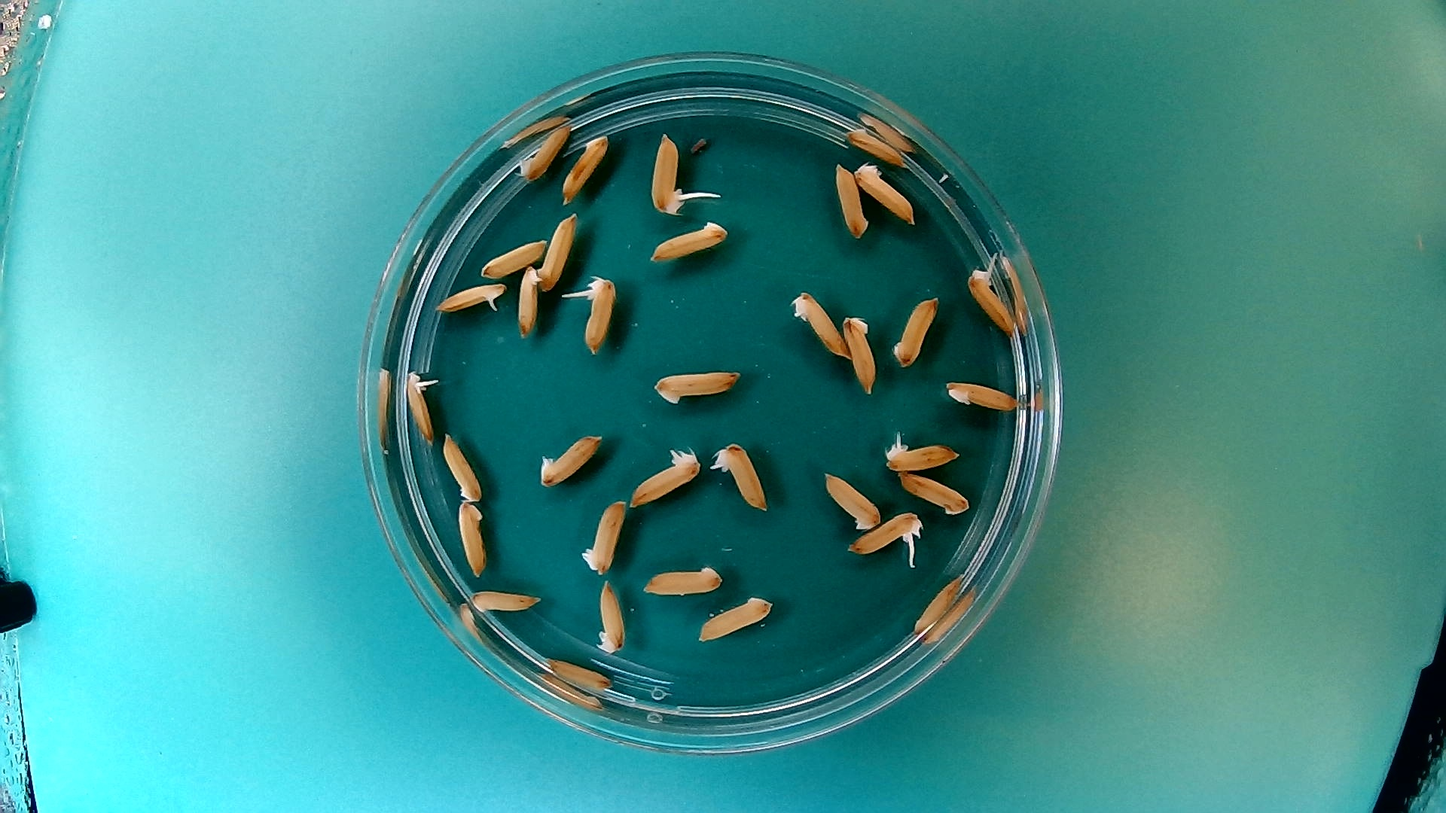no: (851, 158, 918, 227), (789, 285, 850, 360), (536, 426, 607, 489), (645, 215, 731, 264), (650, 363, 745, 407), (696, 592, 776, 644), (578, 494, 628, 577), (891, 290, 941, 370), (560, 129, 612, 204), (531, 209, 578, 291), (822, 469, 882, 532), (514, 122, 574, 184), (638, 561, 726, 601), (840, 310, 880, 396), (439, 428, 484, 504), (830, 159, 870, 242), (898, 473, 972, 517), (912, 574, 964, 634), (844, 123, 913, 168), (941, 374, 1020, 413), (477, 236, 548, 279), (594, 576, 630, 656), (542, 656, 615, 692), (456, 497, 487, 578), (466, 585, 544, 617), (515, 262, 541, 340)
yes: (712, 435, 771, 513), (625, 450, 700, 509), (964, 262, 1018, 337), (577, 271, 619, 359), (847, 509, 921, 553), (649, 133, 687, 217), (402, 367, 441, 443), (881, 437, 961, 472), (435, 279, 510, 316)
